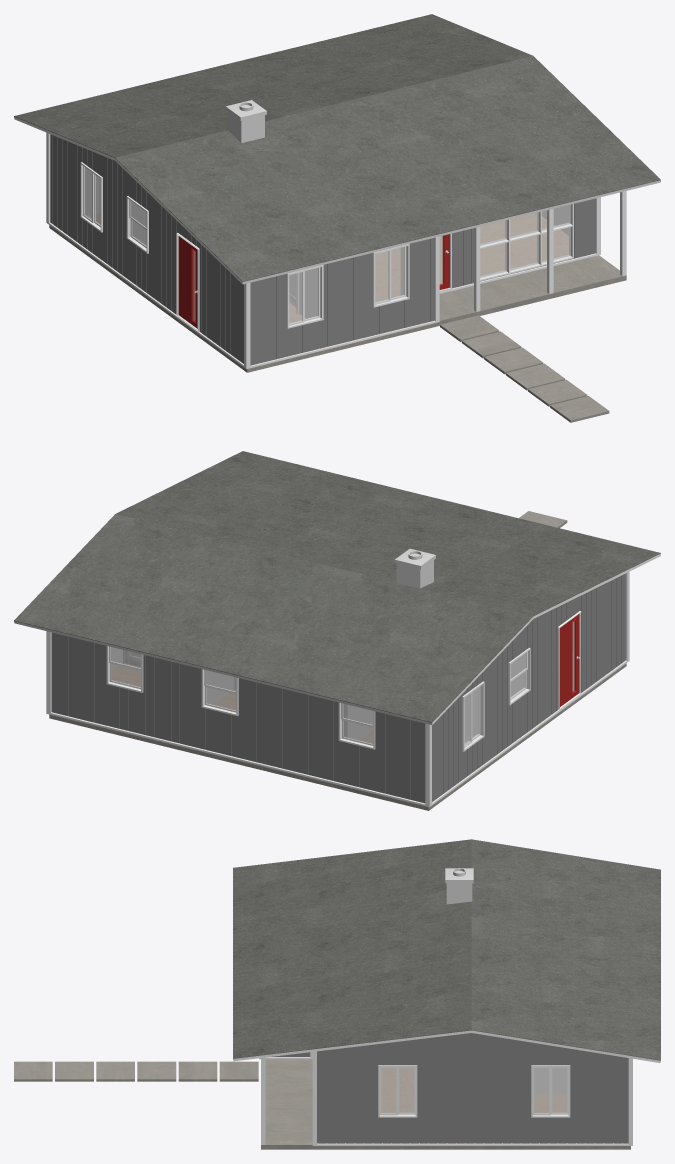
File: casa_mayflower2.glb
The picture shows the model from 3 angles, top to bottom: view 1: azimuth 30°, elevation 25°; view 2: azimuth 150°, elevation 25°; view 3: azimuth 270°, elevation 25°; orthographic projection. The views are drawn at different scales.
Parts seen in each view (by area): view 1: mf-39-roof.001, mf-39-plywood_panels, mf-39-foundation.001, mf-39-walls.001, mf-39-concreteTiles.001, mf-39-supportBeams.001, mf-39windowLarge-triple-designA.001, mf-39-windowDouble.002, mf-39-windowDouble.001, mf-39-doorFront_A.002, mf-39-chimney, mf-39-windowDouble.005 (+3 smaller); view 2: mf-39-roof.001, mf-39-plywood_panels, mf-39-supportBeams.001, mf-39-walls.001, mf-39-foundation.001, mf-39-doorFront_A.002, mf-39-windowSingleSmall.003, mf-39-windowSingleSmall.002, mf-39-windowSingleSmall.004, mf-39-windowDouble.005, mf-39-chimney, mf-39-windowSingleSmall.001 (+1 smaller); view 3: mf-39-roof.001, mf-39-plywood_panels, mf-39-foundation.001, mf-39-concreteTiles.001, mf-39-walls.001, mf-39-supportBeams.001, mf-39-windowDouble.003, mf-39-windowDouble.004, mf-39-chimney.
Part boxes in pixels (left/top/right/bottom): mf-39-roof.001: left=14, top=14, right=660, bottom=284; mf-39-plywood_panels: left=50, top=134, right=595, bottom=365; mf-39-foundation.001: left=49, top=225, right=626, bottom=372; mf-39-walls.001: left=88, top=170, right=568, bottom=322; mf-39-concreteTiles.001: left=440, top=315, right=609, bottom=422; mf-39-supportBeams.001: left=46, top=132, right=626, bottom=368; mf-39windowLarge-triple-designA.001: left=480, top=204, right=573, bottom=280; mf-39-windowDouble.002: left=286, top=265, right=323, bottom=328; mf-39-windowDouble.001: left=373, top=244, right=409, bottom=307; mf-39-doorFront_A.002: left=178, top=236, right=197, bottom=328; mf-39-chimney: left=225, top=100, right=266, bottom=143; mf-39-windowDouble.005: left=80, top=162, right=102, bottom=232; mf-39-roof.001: left=14, top=451, right=660, bottom=725; mf-39-plywood_panels: left=51, top=573, right=625, bottom=803; mf-39-supportBeams.001: left=46, top=571, right=629, bottom=807; mf-39-walls.001: left=112, top=647, right=522, bottom=743; mf-39-foundation.001: left=49, top=663, right=626, bottom=810; mf-39-doorFront_A.002: left=560, top=614, right=580, bottom=706; mf-39-windowSingleSmall.003: left=201, top=669, right=238, bottom=716; mf-39-windowSingleSmall.002: left=106, top=646, right=143, bottom=692; mf-39-windowSingleSmall.004: left=338, top=702, right=375, bottom=749; mf-39-windowDouble.005: left=462, top=681, right=484, bottom=751; mf-39-chimney: left=394, top=548, right=435, bottom=588; mf-39-windowSingleSmall.001: left=508, top=647, right=530, bottom=705; mf-39-roof.001: left=233, top=839, right=660, bottom=1062; mf-39-plywood_panels: left=272, top=1033, right=628, bottom=1143; mf-39-foundation.001: left=261, top=1059, right=630, bottom=1149; mf-39-concreteTiles.001: left=14, top=1061, right=258, bottom=1081; mf-39-walls.001: left=381, top=1068, right=566, bottom=1112; mf-39-supportBeams.001: left=259, top=1051, right=632, bottom=1145; mf-39-windowDouble.003: left=378, top=1065, right=417, bottom=1117; mf-39-windowDouble.004: left=531, top=1065, right=570, bottom=1117; mf-39-chimney: left=445, top=868, right=473, bottom=904.
Size of the model in its own units: 10.9 by 4.1 by 15.63.
10 materials, 4 textured.
